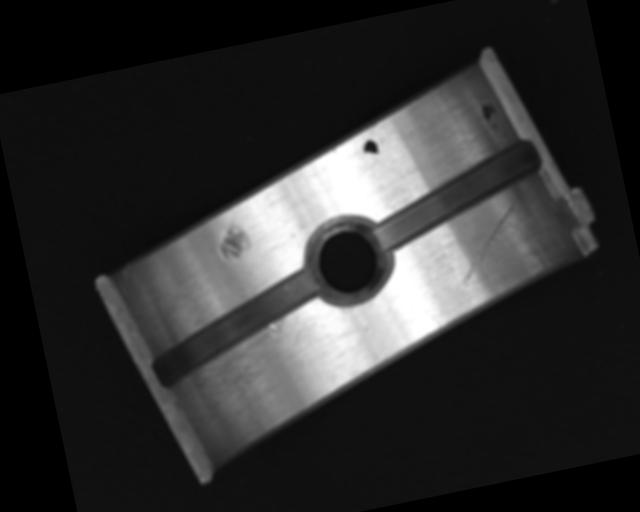blot: (479, 100, 501, 133), (361, 137, 382, 164)
bruise: (214, 215, 255, 262)
gap: (140, 266, 332, 390), (362, 137, 553, 253)
hole: (301, 210, 394, 309)
nick: (448, 203, 529, 288)
scratch: (171, 304, 332, 431)
